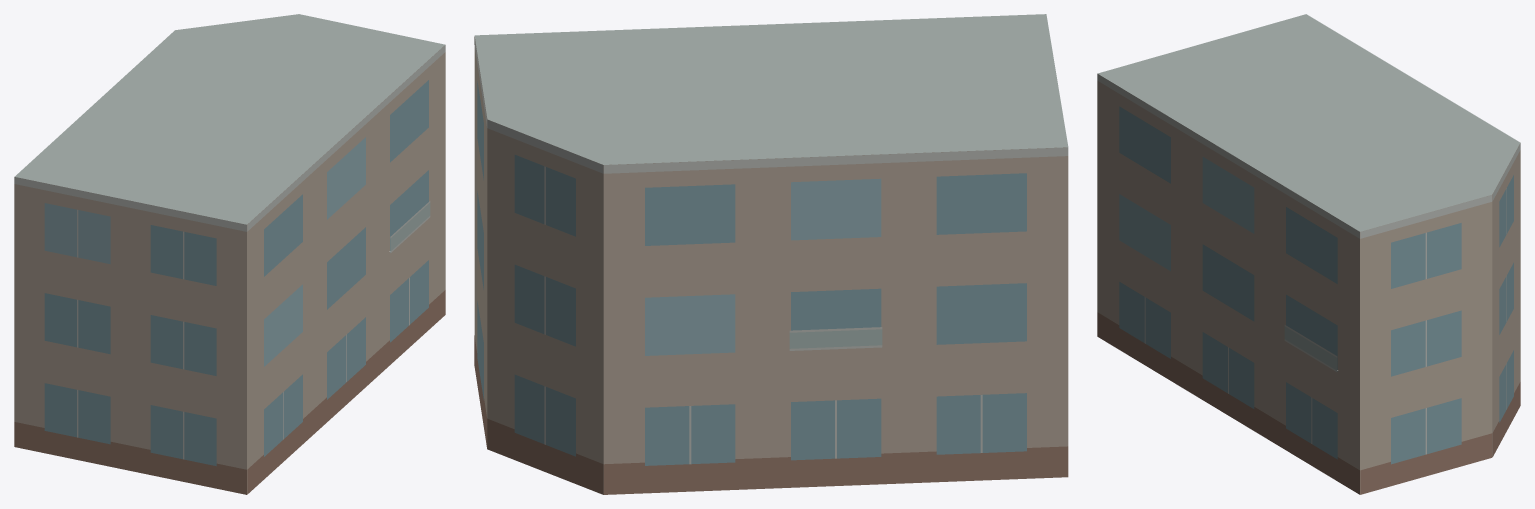
The model's file is survey-upis-32802756.glb.
3 renders of one model, left to right at view 1: azimuth 30°, elevation 25°; view 2: azimuth 150°, elevation 25°; view 3: azimuth 270°, elevation 25°, orthographic. The views are drawn at different scales.
Visible parts, largest first — view 1: survey-upis-32802756.tmp; view 2: survey-upis-32802756.tmp; view 3: survey-upis-32802756.tmp.
Part boxes in pixels (x1,y1,x2,y2): survey-upis-32802756.tmp: (14,14,445,494); survey-upis-32802756.tmp: (474,14,1068,494); survey-upis-32802756.tmp: (1097,14,1520,494).
Bounding box in the file's own units: 16.27 × 9.15 × 13.35.
